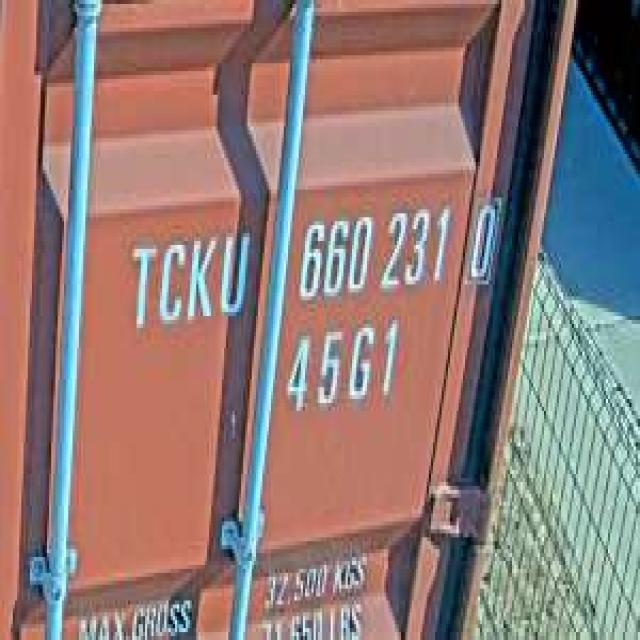dv: (463, 186, 501, 288)
owner: (121, 221, 252, 336)
serial: (292, 198, 452, 304)
size: (280, 316, 403, 427)
